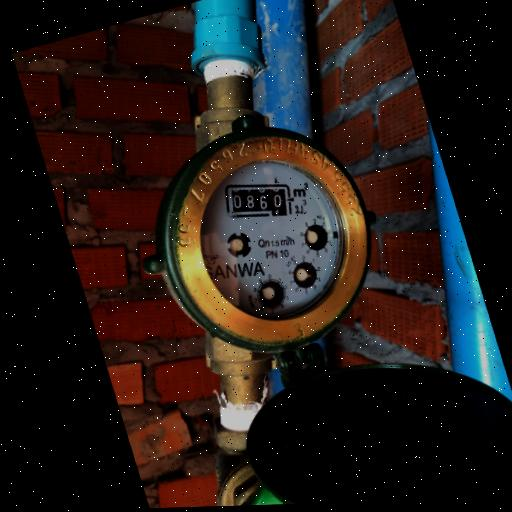0: (264, 185, 292, 219), (227, 187, 250, 215)
6: (250, 186, 275, 214)
8: (239, 187, 262, 214)
border_water_meter_number: (216, 167, 299, 233)
